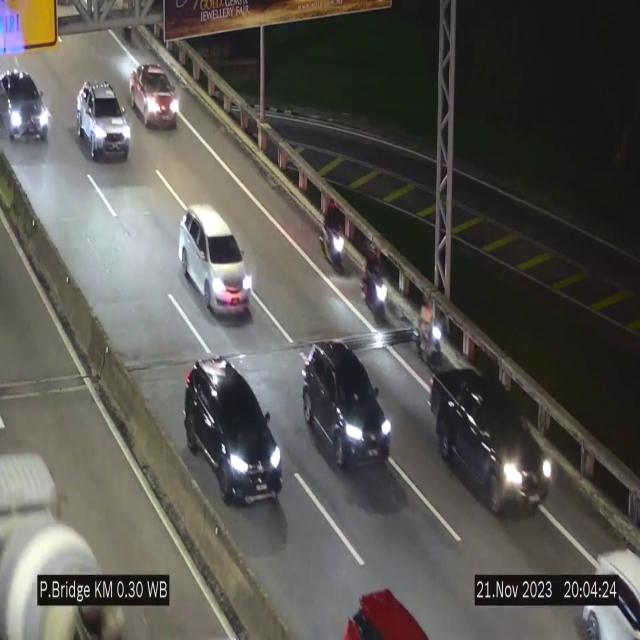Car: (429, 368, 554, 520), (184, 356, 282, 504), (301, 336, 393, 476), (180, 206, 252, 316), (77, 80, 130, 160), (0, 70, 53, 150), (126, 60, 178, 128)
Motorcycle: (414, 282, 444, 374), (362, 238, 388, 334), (320, 191, 349, 277)
